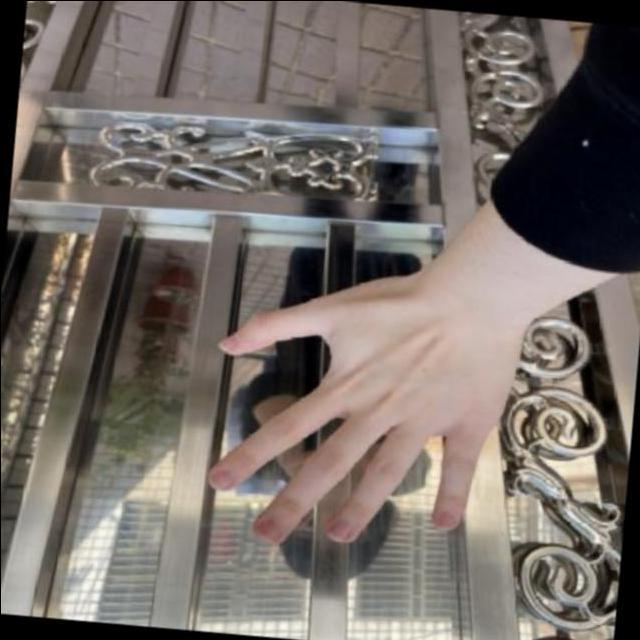hand: (202, 240, 524, 549)
